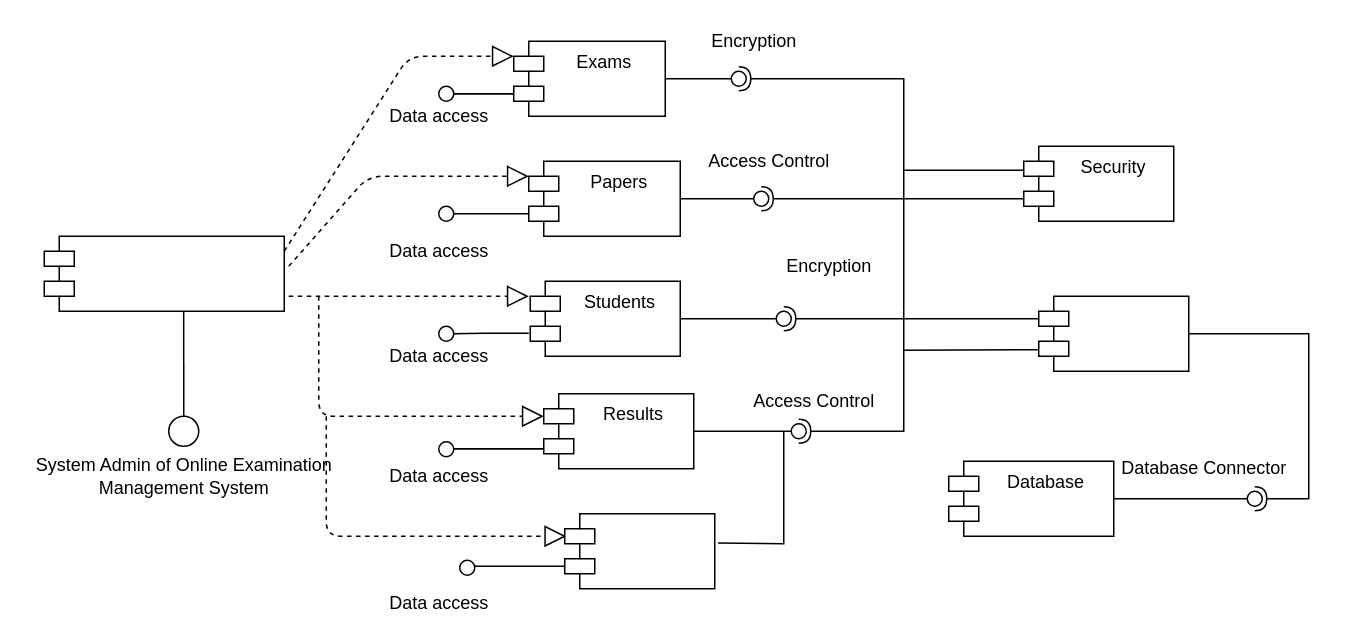
This 1347x644 diagram has some shape labels left out. The shapes that lost their labels are listed below. From the top down, each one's centre as x and y in pixels, then its label:
the point at 163,273: Online Examination System
the point at 1113,333: persistance
the point at 639,550: Teachers
